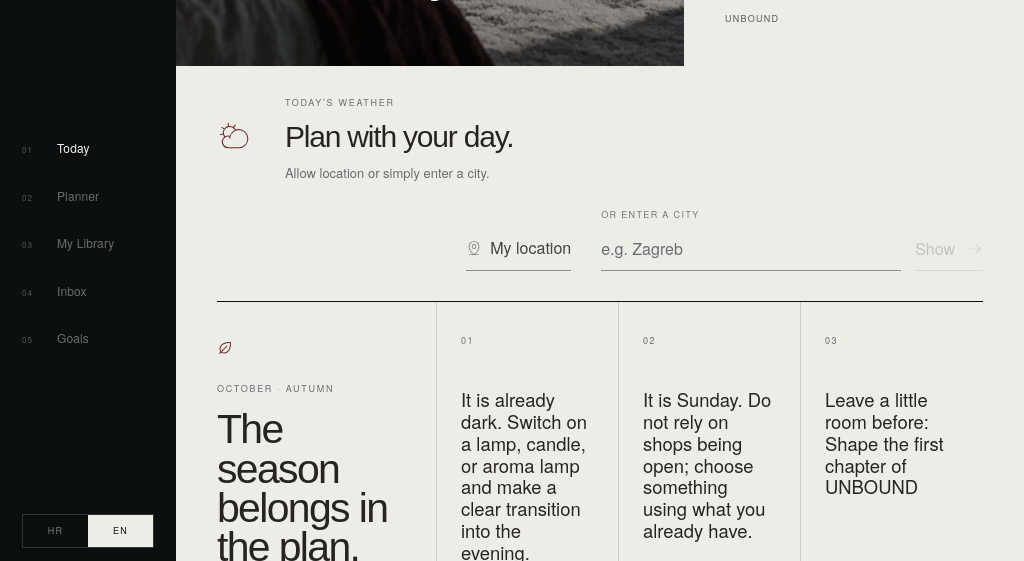
Test case: UNBOUND Life OS interactions › offers a city fallback when browser location is unavailable
(page scrolled)
Click the button with aria-label "Use my location" at (519, 249), box [466,227,571,270]
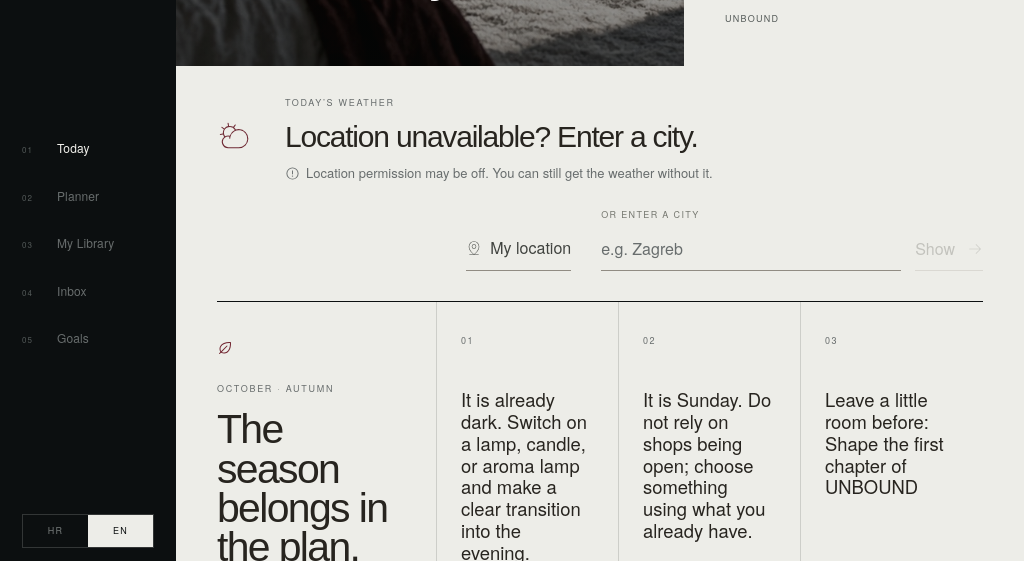
Expected: the field named "City for weather" is shown, [601,228,901,270]
Expected: the heading "Location unavailable? Enter a city." is shown, [285,120,698,153]
